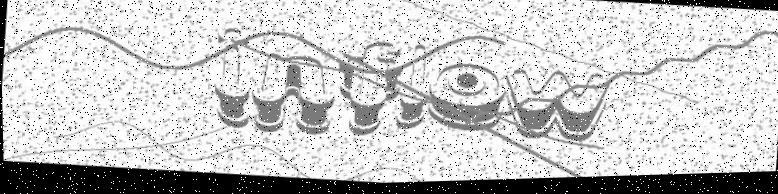f: (333, 38, 406, 142)
i: (207, 24, 257, 132)
l: (392, 44, 431, 133)
n: (247, 49, 338, 140)
o: (423, 61, 509, 139)
w: (502, 67, 611, 149)
